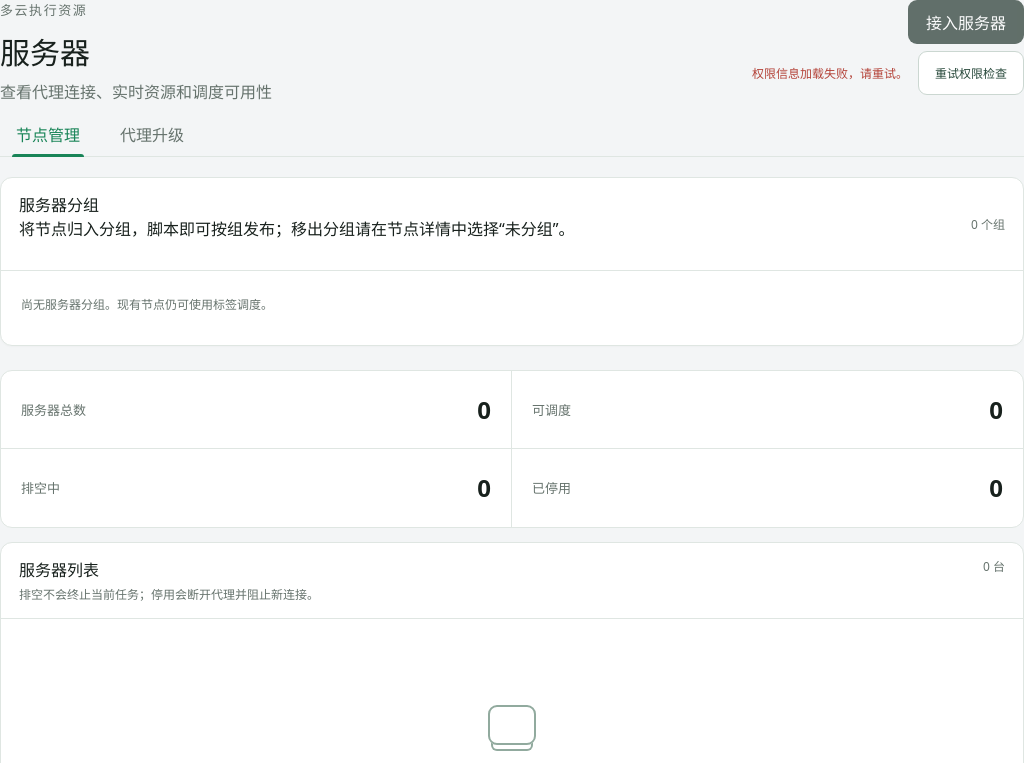
Test case: 服务器管理 › 权限信息读取失败时允许管理员重试而不是误报为非管理员
Expected: the message shows "权限信息加载失败，请重试", [752,65,908,82]
Click the button "重试权限检查": (971, 73) [918,51,1023,95]
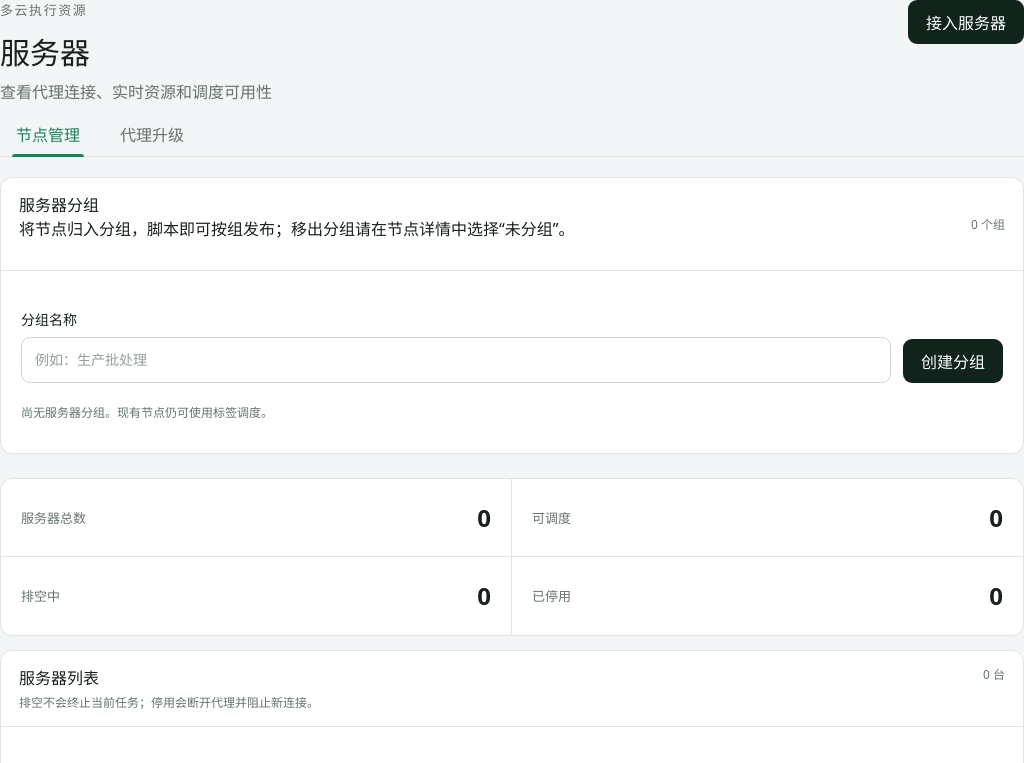
Expected: the button "接入服务器" is enabled, [908,0,1023,44]
